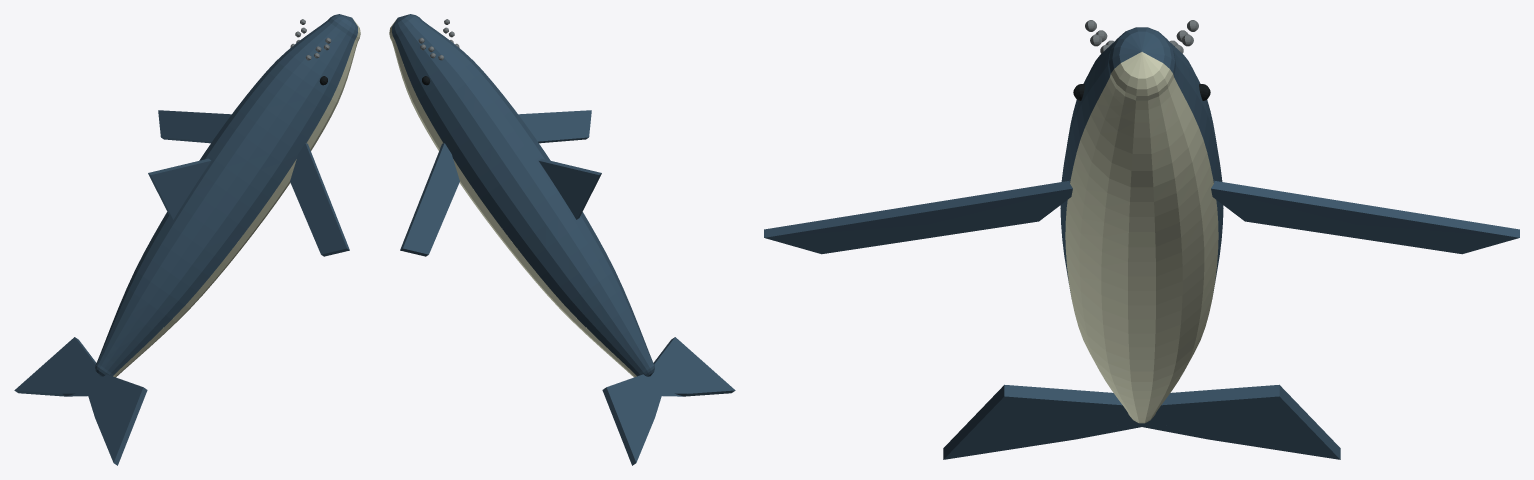
File: humpback-breaching.dae
The picture shows the model from 3 angles, left to right: view 1: azimuth 30°, elevation 25°; view 2: azimuth 150°, elevation 25°; view 3: azimuth 270°, elevation 25°; orthographic projection. The views are drawn at different scales.
Visible parts, largest first — view 1: part3-node, part2-node; view 2: part3-node, part2-node; view 3: part3-node, part2-node, part0-node.
Boxes of the visible parts, box(x1,y1,x2,y2) form: part3-node: box(14, 14, 357, 465); part2-node: box(113, 19, 360, 377); part3-node: box(392, 14, 735, 465); part2-node: box(389, 19, 636, 377); part3-node: box(764, 27, 1519, 459); part2-node: box(1065, 52, 1218, 423); part0-node: box(1085, 20, 1198, 53).
Bounding box in the file's own units: 14 × 15.57 × 15.8.
